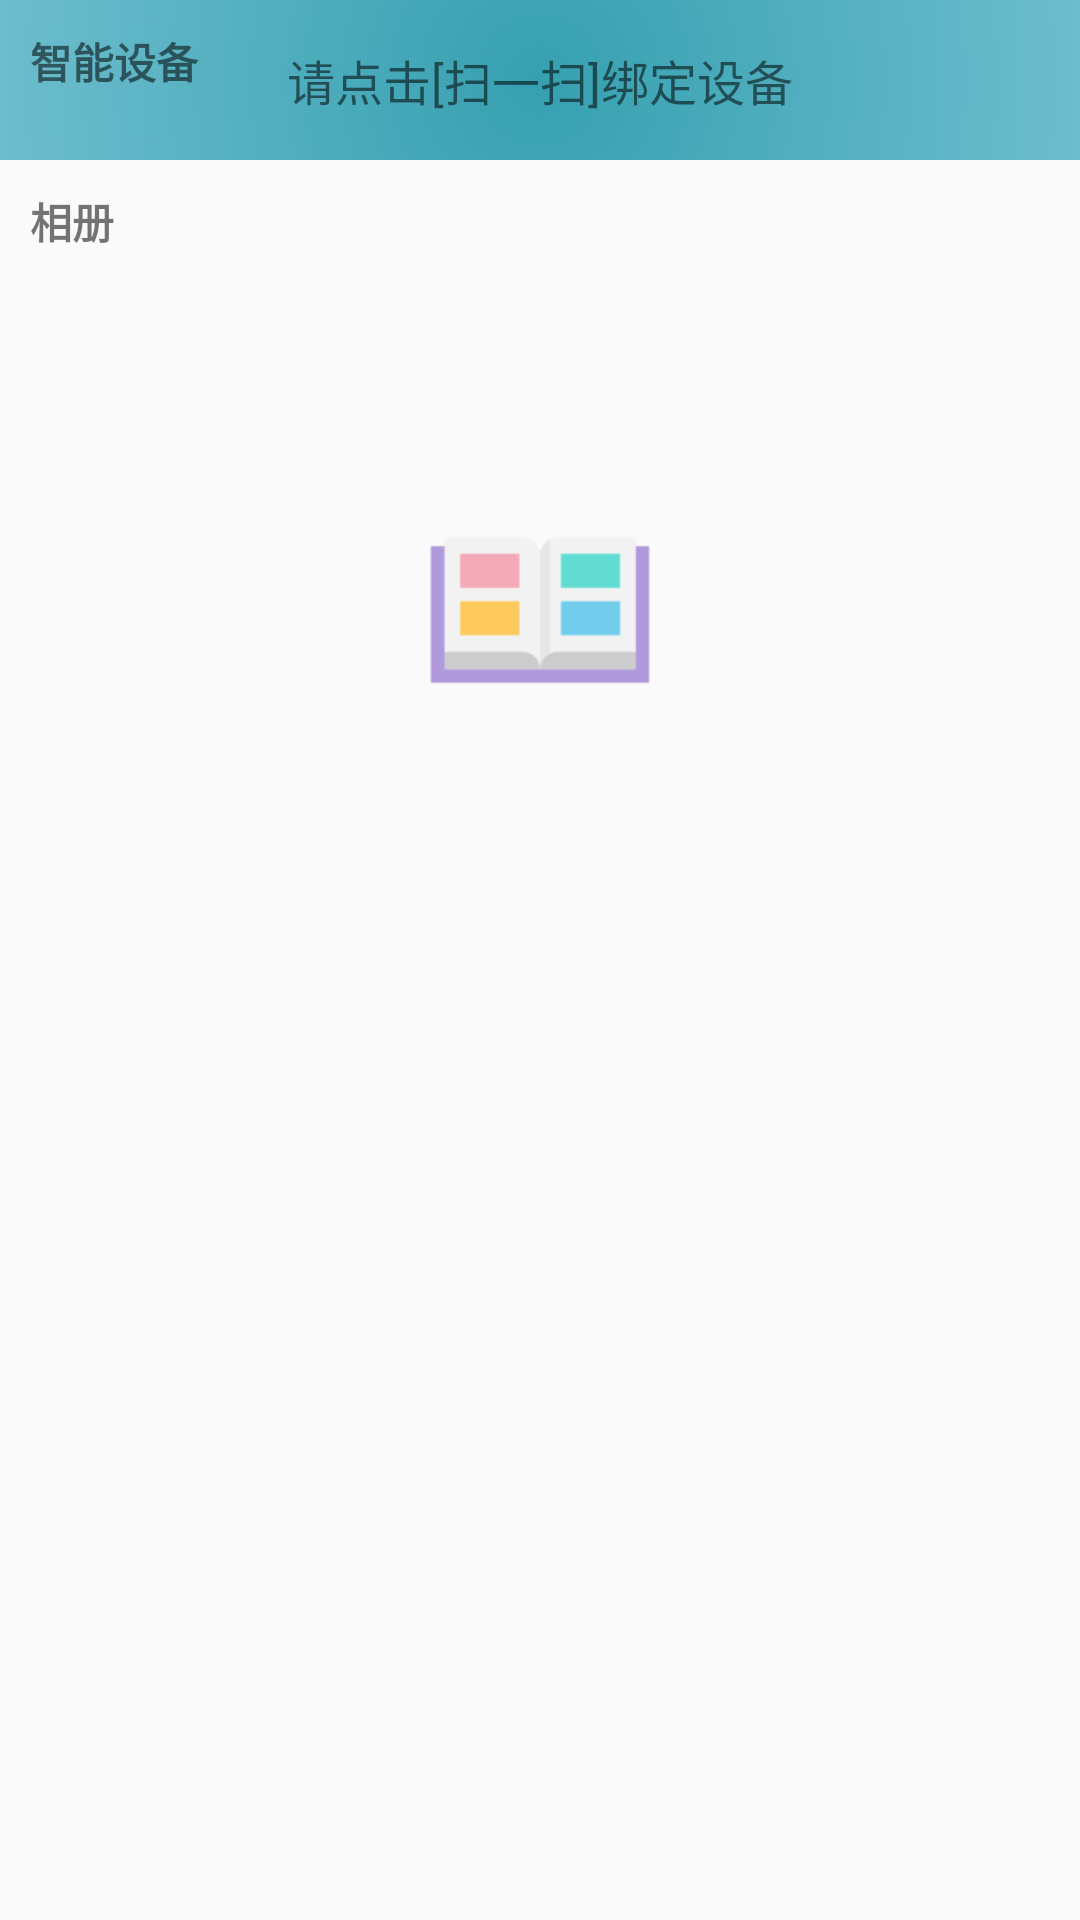

Point at icon controls on the screen. Image size 1080x1920, points as [x,y].
album: [540,614]
